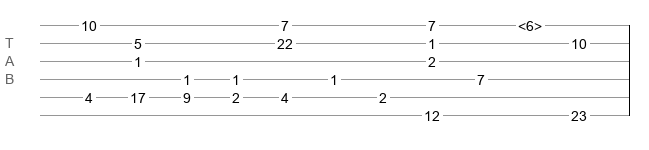1: (134, 54, 142, 64), (183, 72, 191, 82), (232, 72, 240, 82), (330, 72, 338, 82), (428, 36, 436, 46)
10: (81, 18, 97, 28), (571, 36, 587, 46)
12: (424, 108, 440, 118)
17: (130, 90, 146, 100)
2: (232, 90, 240, 100), (379, 90, 387, 100), (428, 54, 436, 64)
22: (277, 36, 293, 46)
23: (571, 108, 587, 118)
4: (85, 90, 93, 100), (281, 90, 289, 100)
5: (134, 36, 142, 46)
7: (281, 18, 289, 28), (428, 18, 436, 28), (477, 72, 485, 82)
9: (183, 90, 191, 100)
harmonic: (518, 18, 542, 28)
